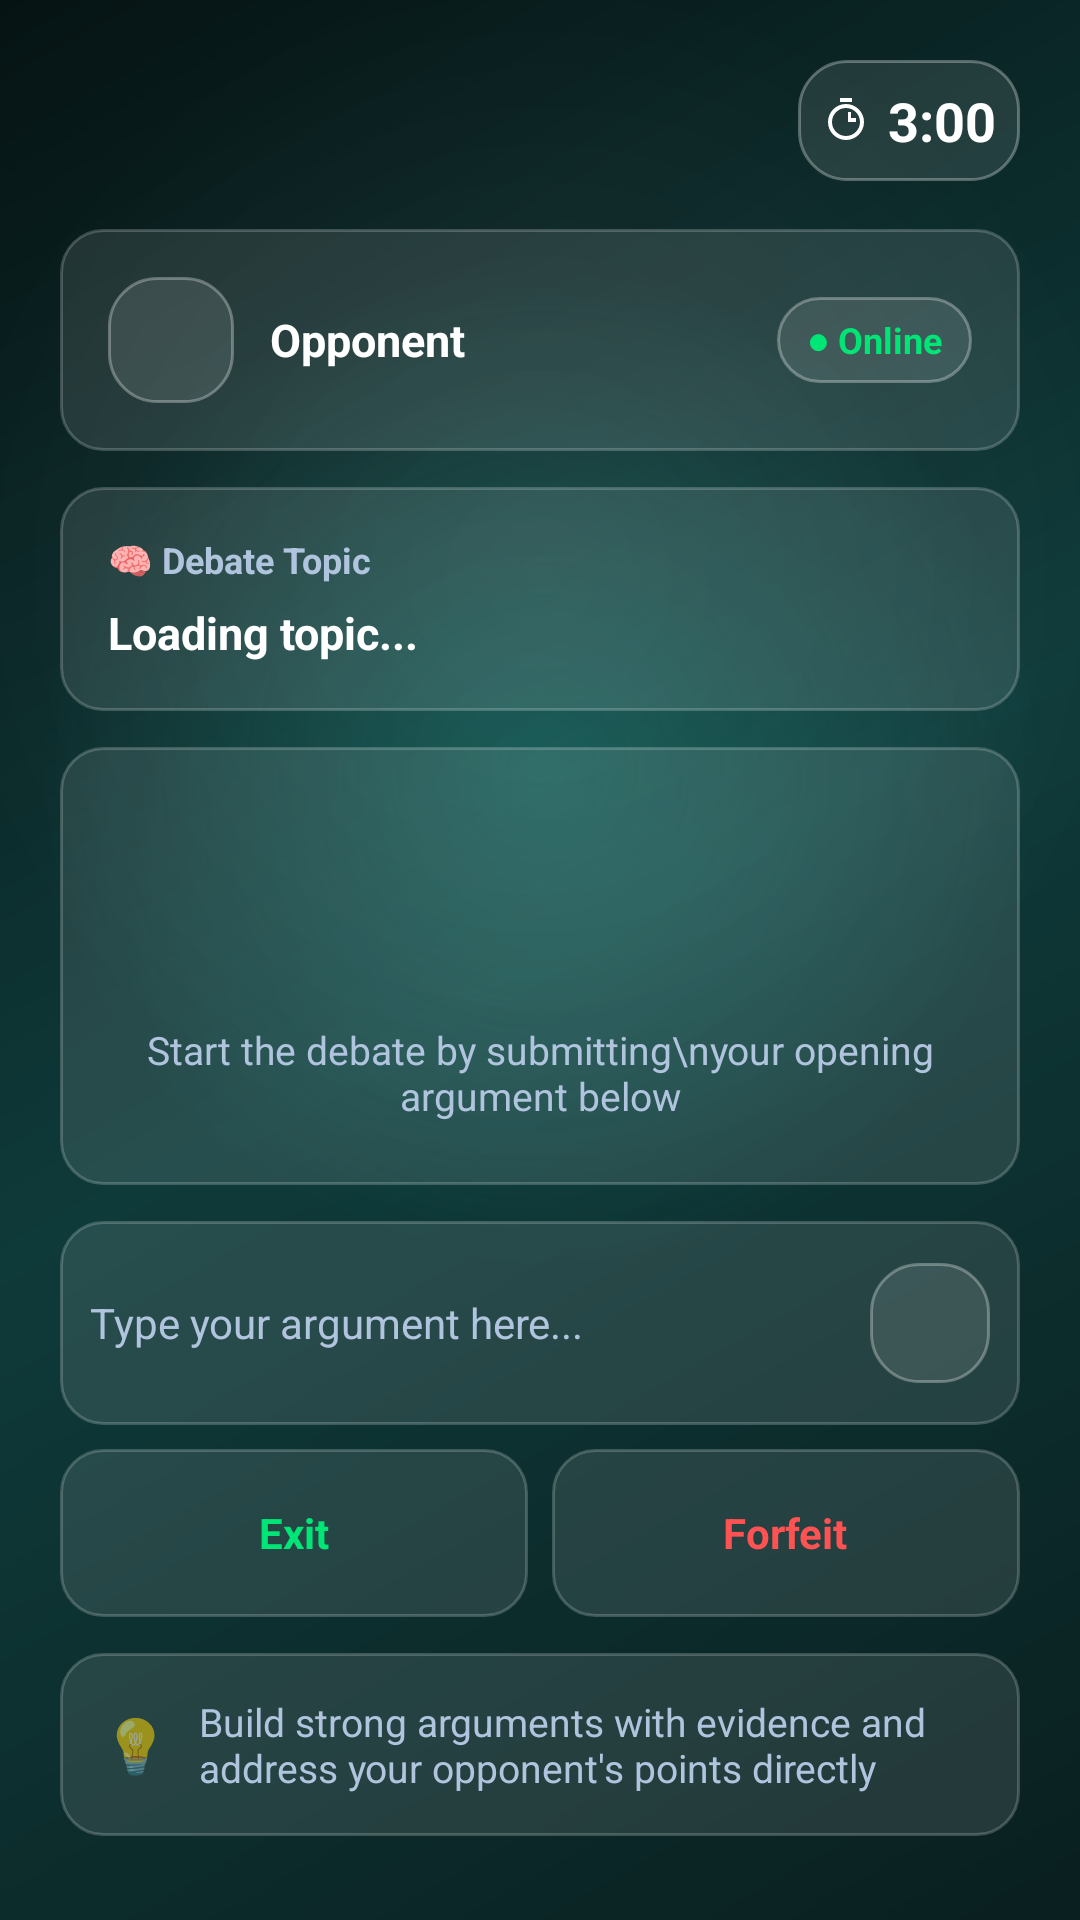

Icons on this 1080px×1920px Android screen, each with its box as {"x1": x1, "y1": y1, "x2": x2, "y2": y2}:
Timer: {"x1": 828, "y1": 98, "x2": 864, "y2": 140}
